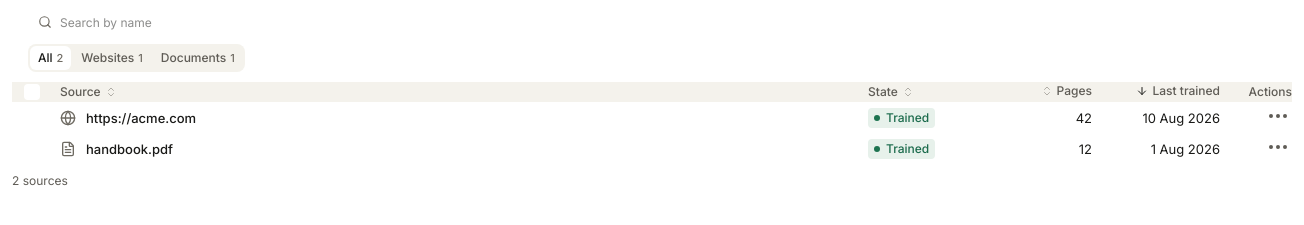
Scenario: SourcesTable — deleting indexed knowledge › offers no re-train on a document
What coordinates should you click on to do the following:
click the button named "Actions for handbook.pdf"
I would click on:
 (1278, 147)
Its box is [1264,133,1292,161].
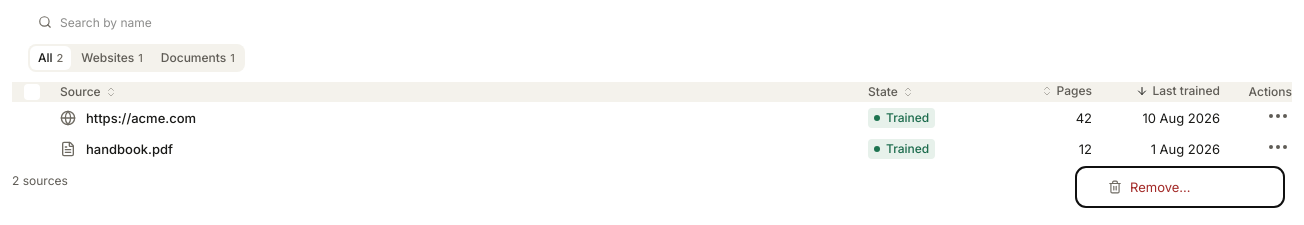
Expected: the menu is shown, [1076,167,1284,207]
